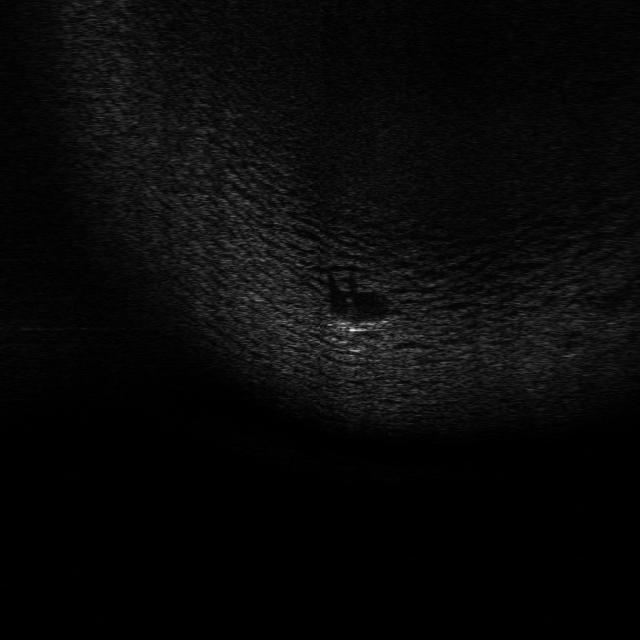plane: (330, 313, 390, 335)
